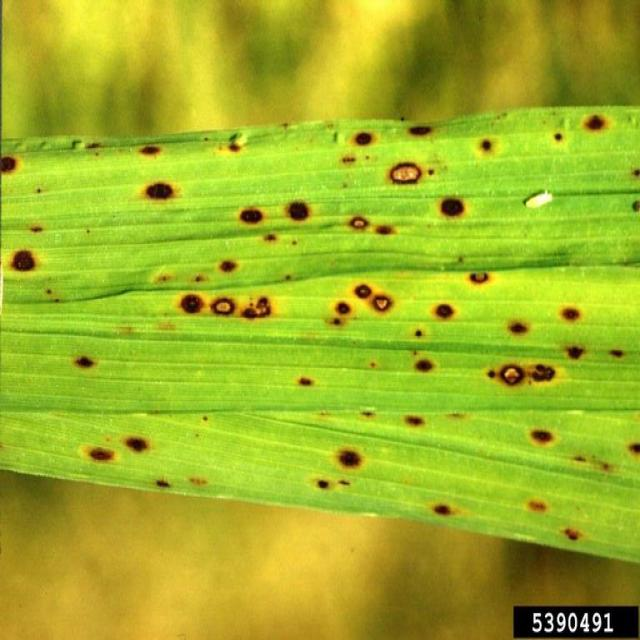Brown spot: (180, 292, 272, 328), (346, 207, 401, 246), (486, 362, 564, 388), (556, 294, 610, 331), (350, 282, 398, 318), (462, 260, 508, 294), (578, 436, 614, 479), (129, 179, 182, 208), (384, 162, 441, 188), (2, 241, 39, 280), (564, 512, 598, 552), (434, 190, 469, 228), (79, 436, 120, 468), (433, 487, 461, 530), (530, 413, 559, 453), (0, 138, 25, 184), (128, 140, 170, 167), (206, 141, 255, 163), (286, 195, 323, 222), (314, 475, 357, 498), (404, 121, 446, 144), (236, 200, 266, 231), (349, 126, 381, 155), (335, 438, 364, 470), (396, 404, 429, 432), (584, 106, 613, 135), (525, 484, 548, 518), (124, 427, 152, 454), (430, 300, 460, 325), (216, 250, 240, 280), (478, 130, 499, 164), (606, 341, 638, 363), (506, 313, 530, 342), (288, 371, 319, 393), (329, 299, 350, 331), (413, 350, 438, 376), (72, 352, 99, 376), (153, 262, 179, 286), (566, 340, 587, 366), (360, 398, 380, 424), (155, 474, 178, 491), (409, 326, 425, 342), (556, 128, 570, 145), (630, 434, 640, 457), (264, 228, 278, 244), (628, 199, 639, 216), (366, 359, 381, 371), (630, 164, 638, 185)
